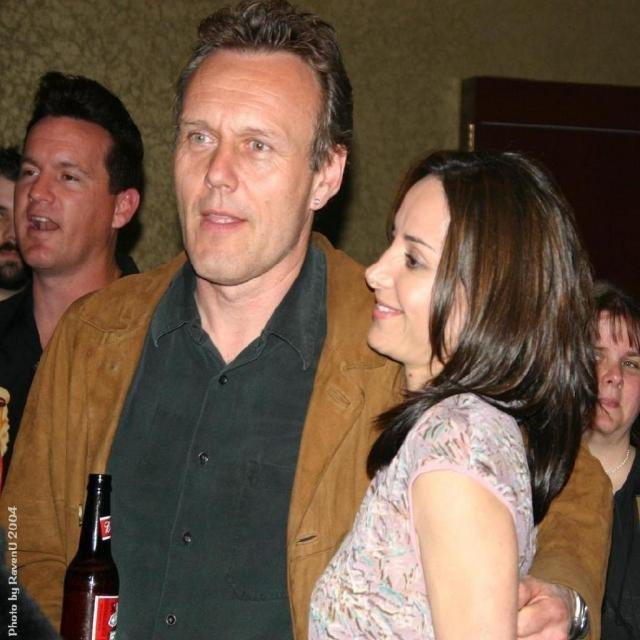bottle-glass: (60, 471, 121, 639)
